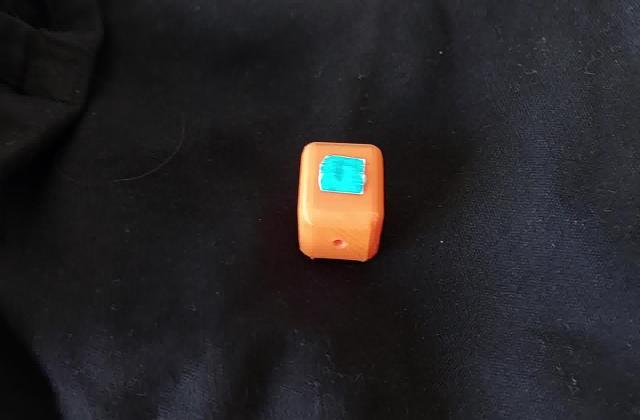blue: (327, 159, 360, 190)
sticker: (294, 136, 388, 270)
